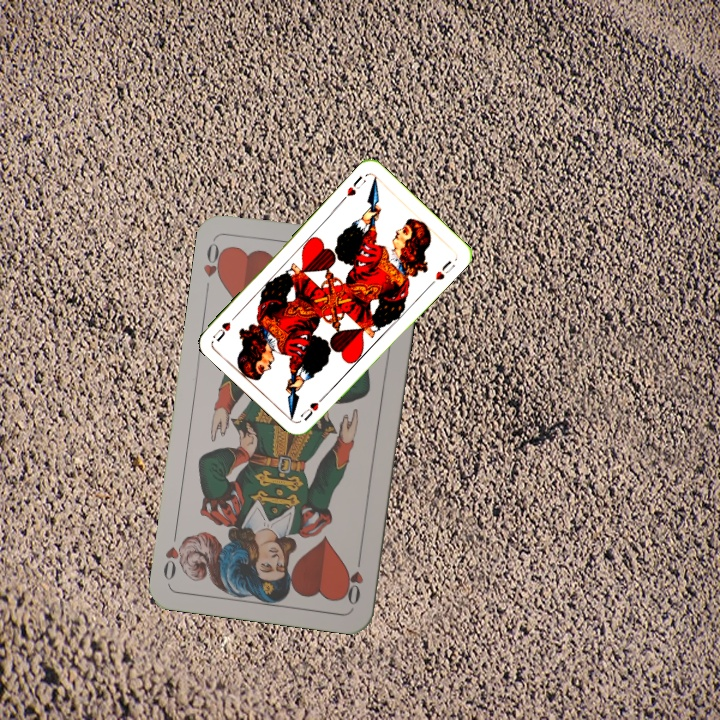HO: (342, 549, 366, 608), (199, 239, 229, 286)
HU: (297, 391, 329, 424), (338, 171, 369, 204)
